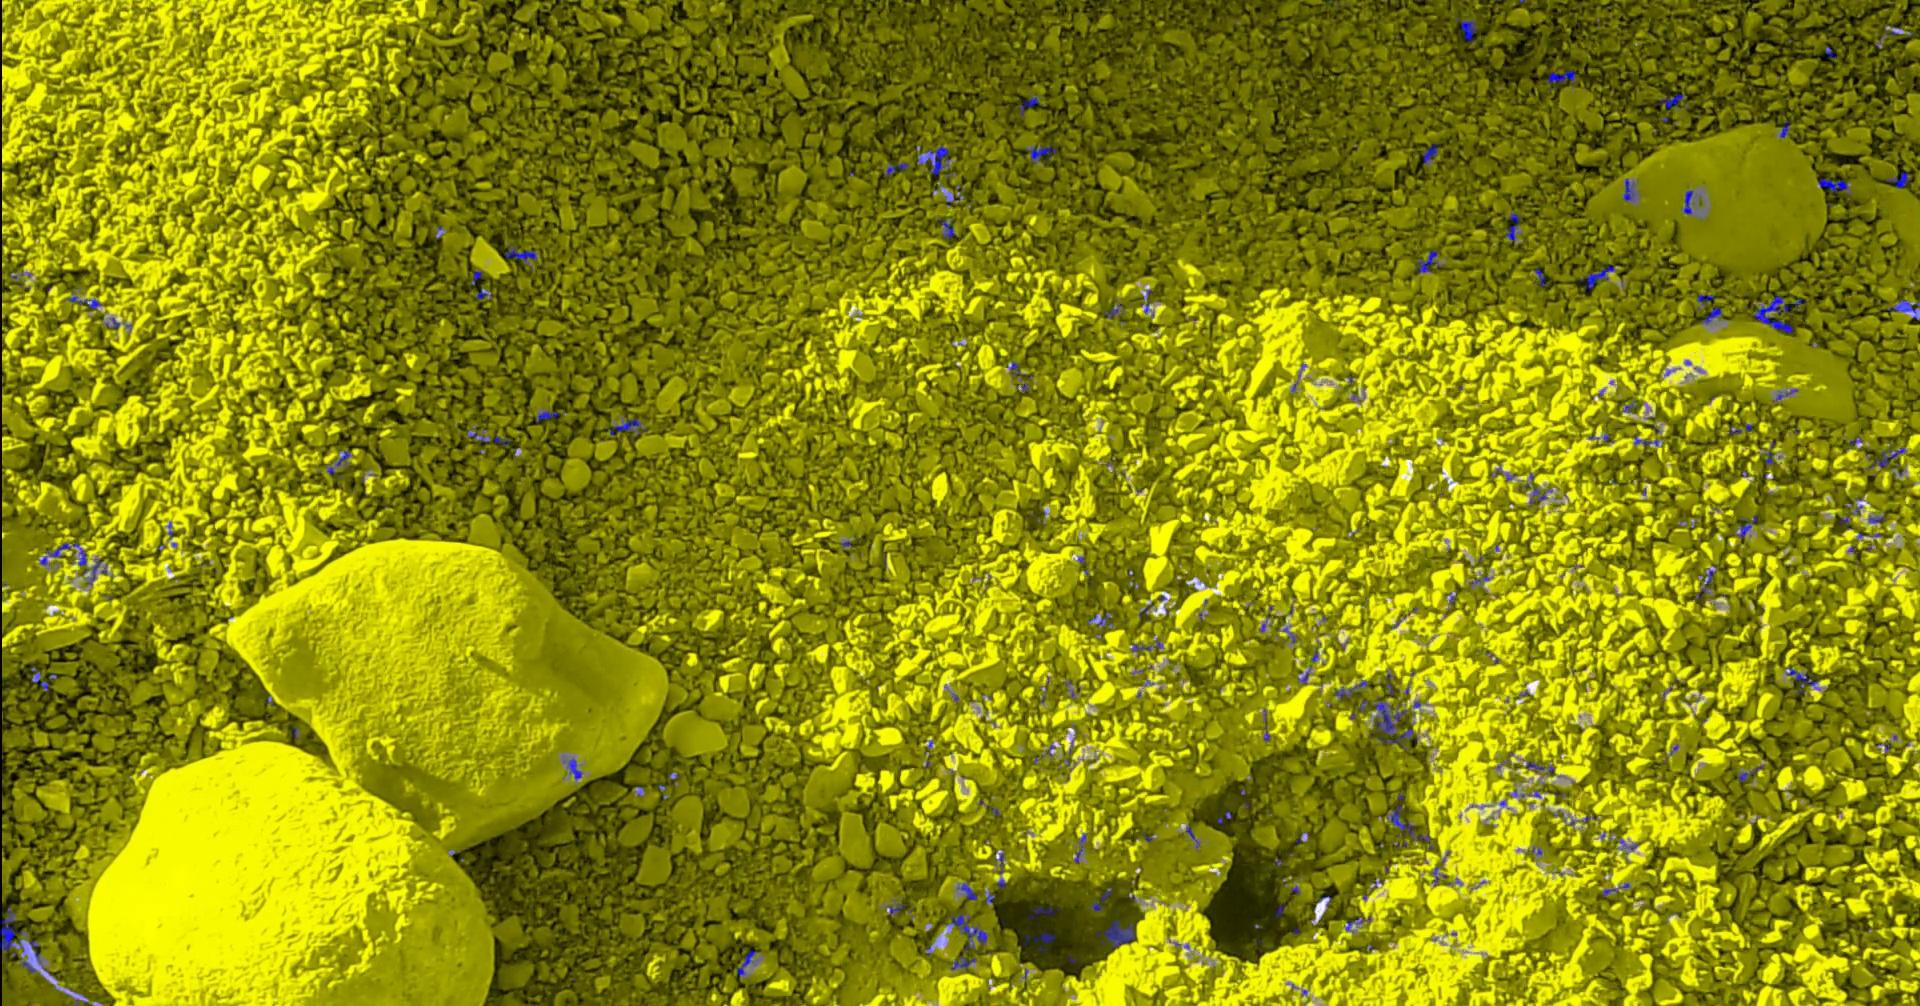ant: (1385, 804, 1432, 848), (1752, 293, 1804, 333), (1373, 700, 1413, 749), (946, 913, 985, 951), (0, 906, 27, 951), (1095, 920, 1135, 948), (916, 145, 950, 175), (1874, 23, 1912, 48), (1578, 265, 1614, 291), (1865, 447, 1905, 469), (1785, 667, 1817, 694), (466, 426, 509, 445), (505, 243, 537, 265), (1695, 565, 1716, 600), (1886, 298, 1919, 319), (1335, 680, 1368, 699), (83, 558, 105, 584), (737, 949, 759, 976), (610, 418, 646, 434), (1818, 178, 1851, 196), (66, 291, 102, 307), (1087, 887, 1111, 911), (1454, 17, 1477, 42), (1413, 250, 1440, 272), (44, 542, 79, 558), (1545, 70, 1576, 86), (1027, 145, 1055, 163), (1736, 514, 1757, 537), (1018, 93, 1037, 117), (1505, 210, 1519, 241), (1023, 931, 1055, 945), (30, 666, 48, 690), (1658, 93, 1684, 109), (1737, 765, 1763, 781), (1525, 760, 1554, 774), (1884, 171, 1909, 188), (936, 217, 955, 238), (1087, 611, 1112, 626), (1131, 639, 1162, 652), (563, 758, 582, 779), (1029, 906, 1059, 918), (950, 955, 977, 969), (1006, 359, 1025, 379), (1700, 307, 1722, 324), (1528, 486, 1545, 506), (1432, 866, 1450, 885), (956, 883, 977, 899), (1074, 833, 1086, 862), (1622, 178, 1636, 201), (1422, 144, 1437, 164), (535, 410, 565, 420), (885, 161, 909, 174), (28, 939, 41, 963), (1633, 434, 1658, 446), (1764, 439, 1775, 464), (1103, 304, 1123, 318), (1728, 423, 1751, 434), (1683, 191, 1693, 213), (1140, 290, 1150, 312), (884, 903, 904, 915), (1697, 293, 1713, 307), (335, 450, 349, 466), (1533, 268, 1545, 286), (1384, 669, 1393, 695), (77, 547, 86, 567), (1779, 121, 1789, 137)
